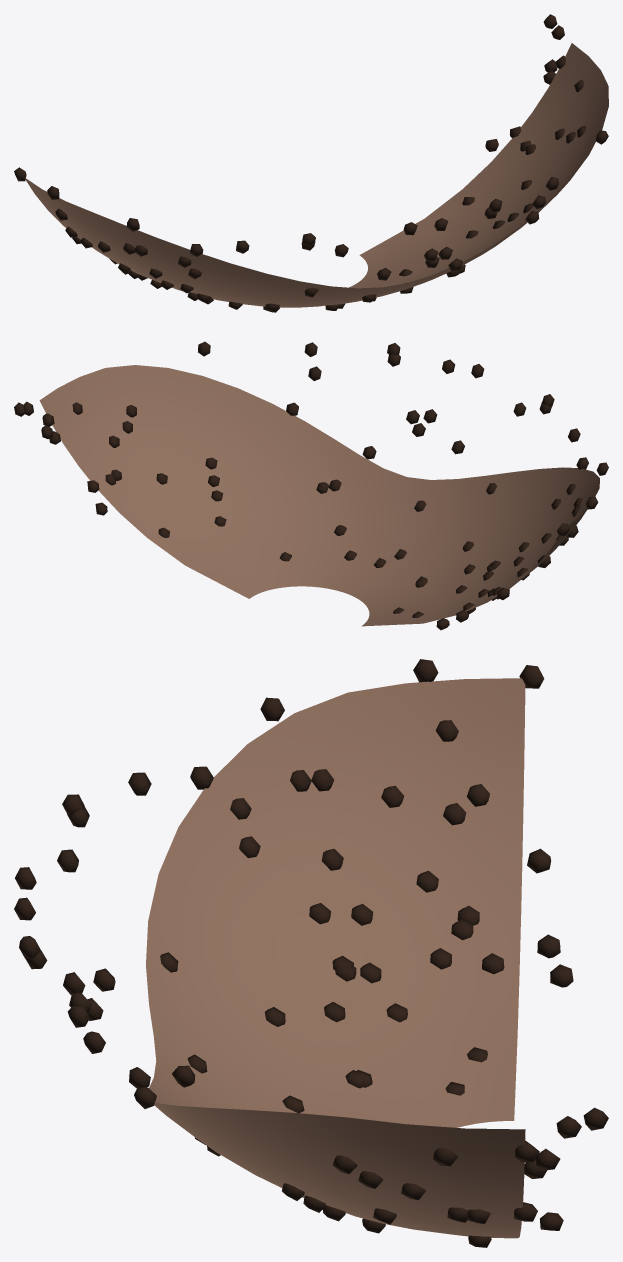
The model's file is beard_stubble.glb.
The picture shows the model from 3 angles, top to bottom: view 1: azimuth 30°, elevation 25°; view 2: azimuth 150°, elevation 25°; view 3: azimuth 270°, elevation 25°; orthographic projection. The views are drawn at different scales.
Parts seen in each view (by area): view 1: BeardStubble; view 2: BeardStubble; view 3: BeardStubble.
Part boxes in pixels (x1=…): BeardStubble: x1=14, y1=14, x2=608, y2=312; BeardStubble: x1=14, y1=341, x2=608, y2=630; BeardStubble: x1=14, y1=659, x2=608, y2=1247.
Bounding box in the file's own units: 0.4461 × 0.1286 × 0.2435.
